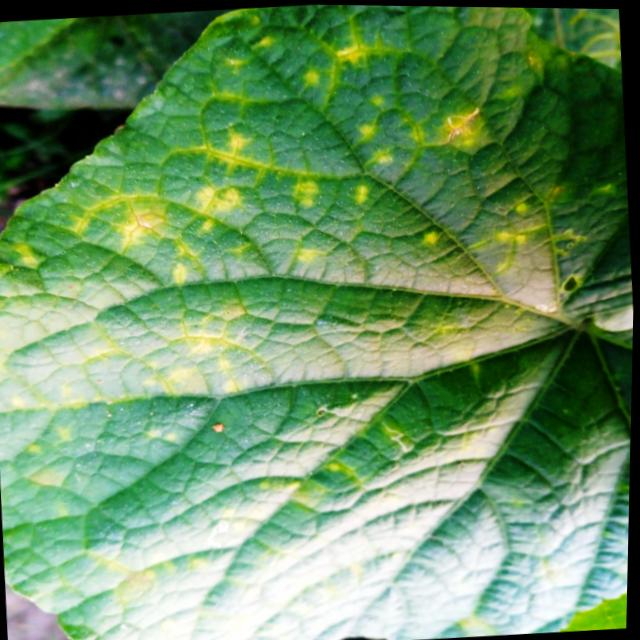Downy-Mildew: (0, 5, 634, 640)
